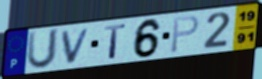2: (202, 10, 233, 51)
6: (131, 17, 164, 59)
P: (169, 14, 201, 55)
T: (103, 23, 128, 60)
U: (25, 27, 61, 71)
V: (60, 26, 93, 65)
